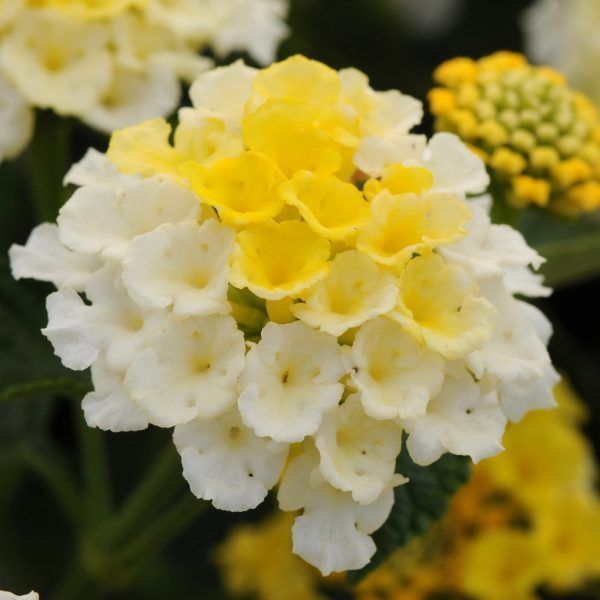lantana: (129, 311, 244, 423), (242, 321, 348, 440), (172, 417, 288, 509), (396, 257, 499, 353), (348, 325, 442, 421), (348, 193, 466, 266), (128, 229, 230, 309), (317, 399, 402, 495), (406, 381, 502, 464), (60, 182, 184, 246), (224, 224, 326, 298), (301, 257, 397, 333), (87, 271, 159, 354), (284, 171, 370, 239), (202, 153, 281, 224)
